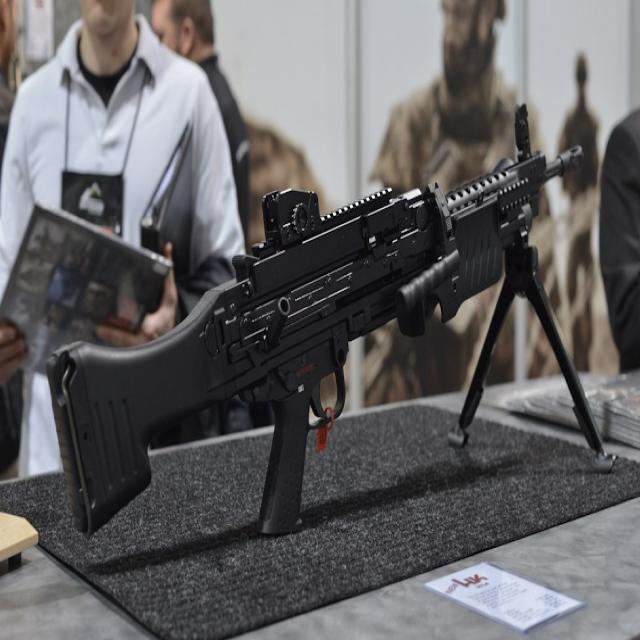firearm: (42, 101, 620, 543)
